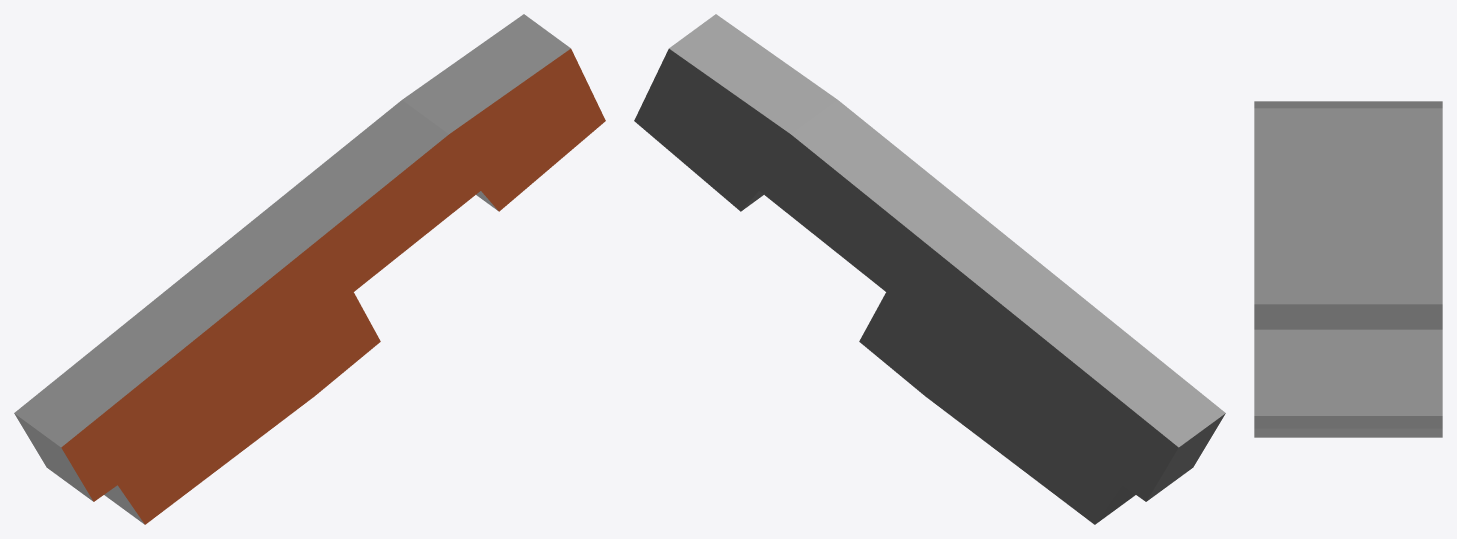
File: construction_2821_assumed_A_Casa_h6m.obj
The picture shows the model from 3 angles, left to right: view 1: azimuth 30°, elevation 25°; view 2: azimuth 150°, elevation 25°; view 3: azimuth 270°, elevation 25°; orthographic projection. The views are drawn at different scales.
Visible parts, largest first — view 1: construction_2821_assumed_A_Casa; view 2: construction_2821_assumed_A_Casa; view 3: construction_2821_assumed_A_Casa.
Boxes of the visible parts, left/top/right/bottom form: construction_2821_assumed_A_Casa: left=14, top=14, right=605, bottom=524; construction_2821_assumed_A_Casa: left=634, top=14, right=1225, bottom=524; construction_2821_assumed_A_Casa: left=1254, top=101, right=1442, bottom=437.
Bounding box in the file's own units: 40.07 × 26.19 × 6.
